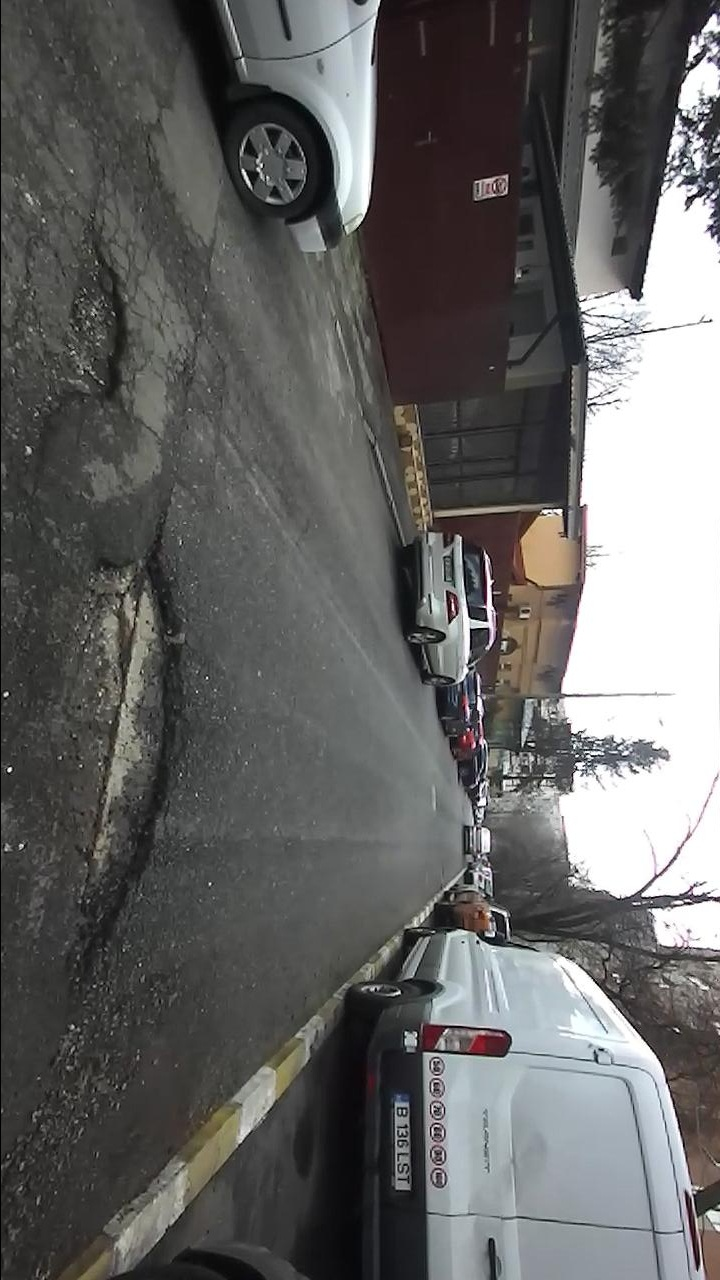pothole: (52, 520, 194, 1003), (37, 215, 131, 427)
